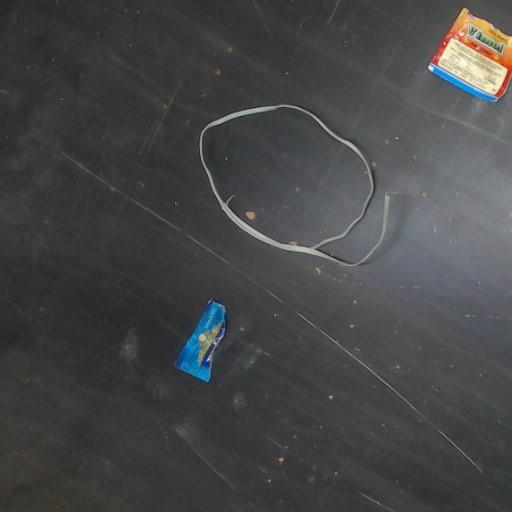packet: (428, 8, 511, 101), (176, 301, 226, 381)
thread: (200, 104, 396, 267)
